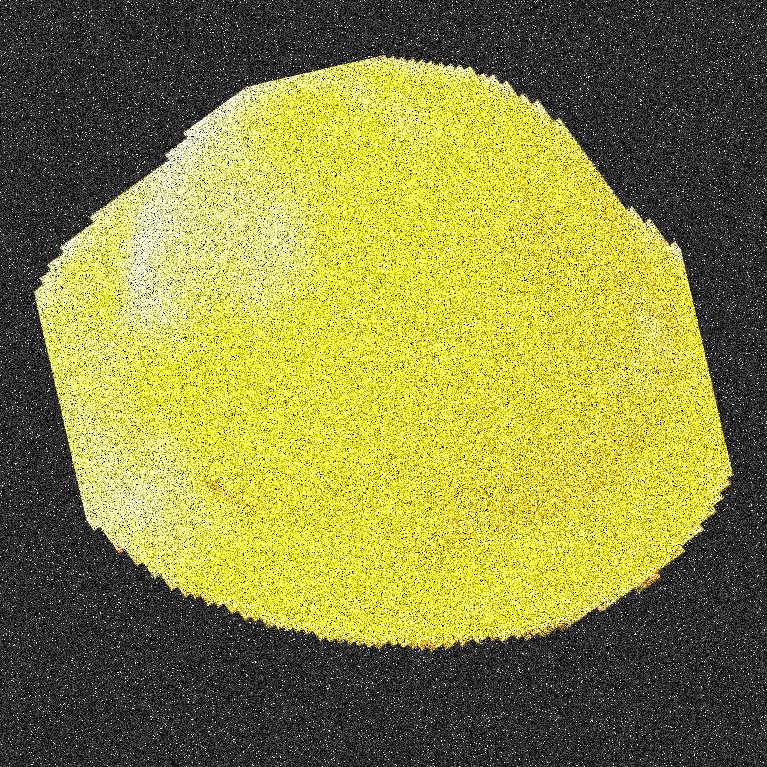Capacete: (197, 0, 710, 766)
